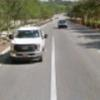cars: (10, 28, 48, 62)
